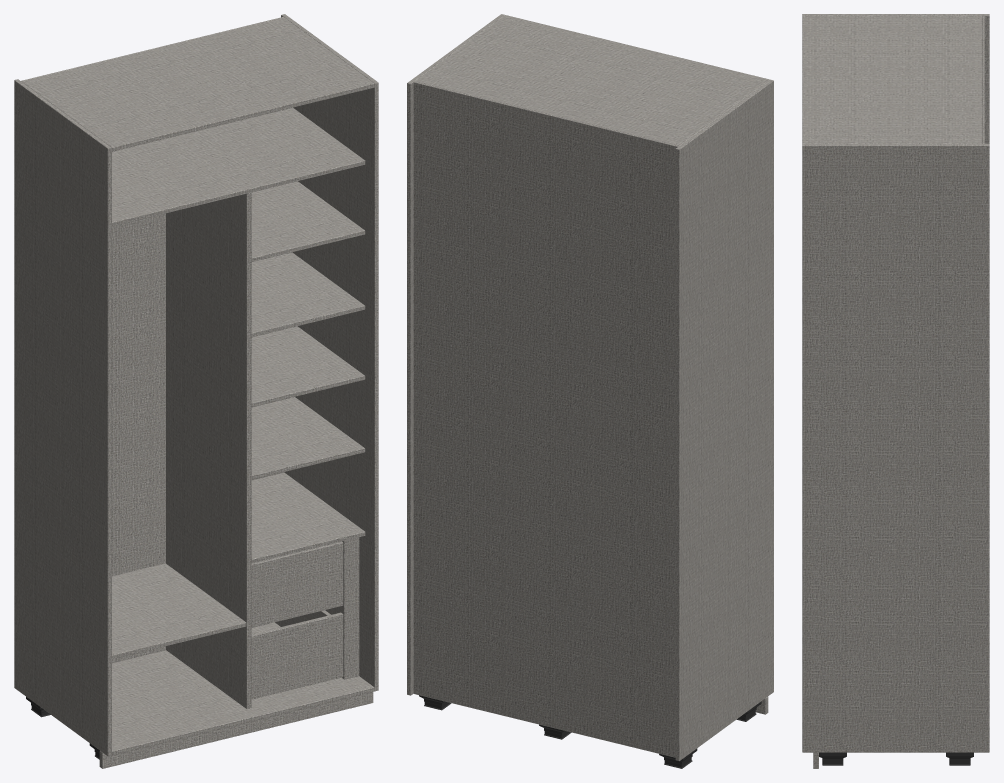
Rendered from cbib12166.gltf.
3 renders of one model, left to right at view 1: azimuth 30°, elevation 25°; view 2: azimuth 150°, elevation 25°; view 3: azimuth 270°, elevation 25°, orthographic.
Visible parts, largest first — view 1: CBIB12166; view 2: CBIB12166; view 3: CBIB12166.
Boxes of the visible parts, left/top/right/bottom form: CBIB12166: left=14, top=14, right=378, bottom=768; CBIB12166: left=407, top=14, right=773, bottom=768; CBIB12166: left=802, top=14, right=989, bottom=768.
Size of the model in its own units: 1 by 2.2 by 0.6.
3 materials, 2 textured.
